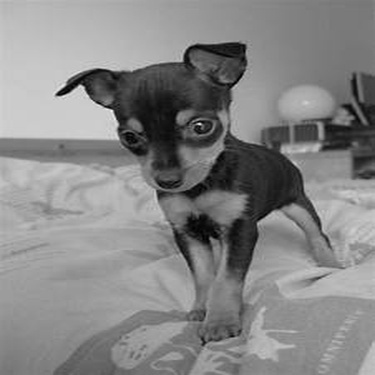dog: (38, 33, 356, 352)
